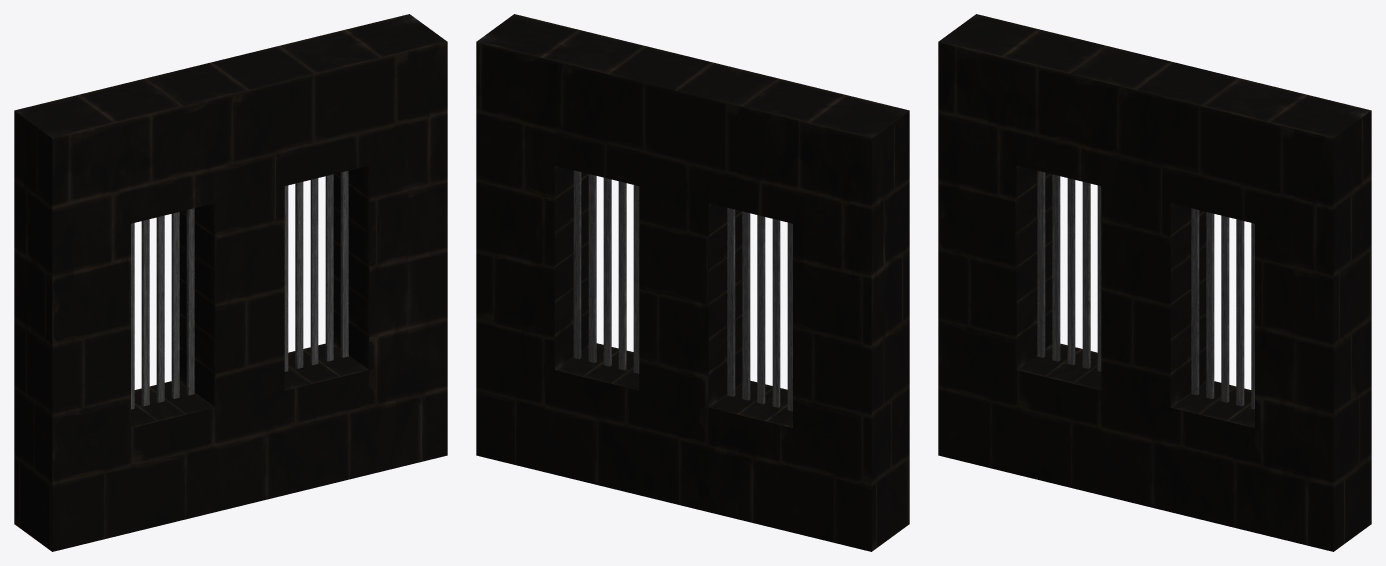
Rendered from wall_1C.fbx.
3 renders of one model, left to right at view 1: azimuth 30°, elevation 25°; view 2: azimuth 150°, elevation 25°; view 3: azimuth 330°, elevation 25°, orthographic.
Parts seen in each view (by area): view 1: wall_1C; view 2: wall_1C; view 3: wall_1C.
Part boxes in pixels (x1,y1,x2,y2): wall_1C: [14, 14, 447, 551]; wall_1C: [476, 14, 909, 551]; wall_1C: [938, 14, 1371, 551].
Bounding box in the file's own units: 600 × 600 × 100.
